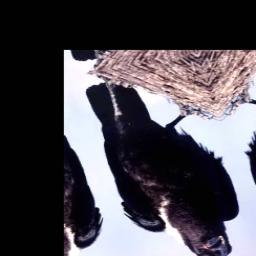Crow: (75, 58, 256, 256)
